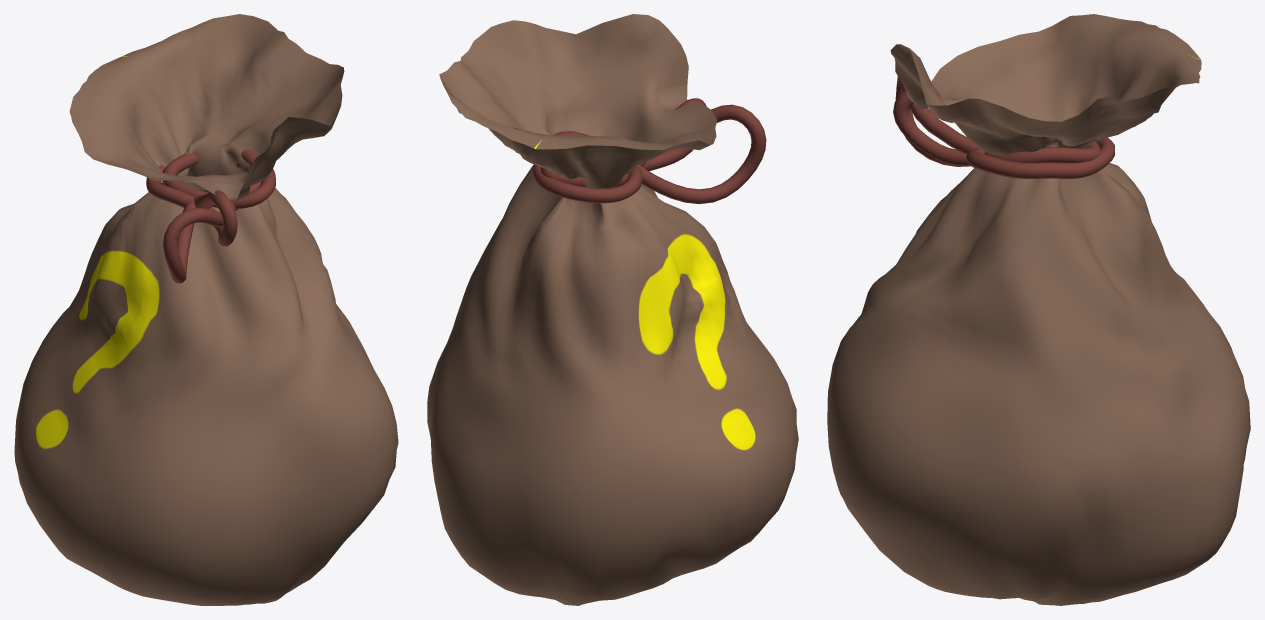
The model's file is sack 1.fbx.
3 renders of one model, left to right at view 1: azimuth 30°, elevation 25°; view 2: azimuth 150°, elevation 25°; view 3: azimuth 270°, elevation 25°, orthographic. The views are drawn at different scales.
Parts seen in each view (by area): view 1: sack; view 2: sack; view 3: sack.
Part boxes in pixels (<box>): sack: <box>14,14,398,605</box>; sack: <box>427,14,798,605</box>; sack: <box>827,14,1250,605</box>.
Size of the model in its own units: 49.22 by 73.62 by 51.4.
2 materials, 1 textured.
